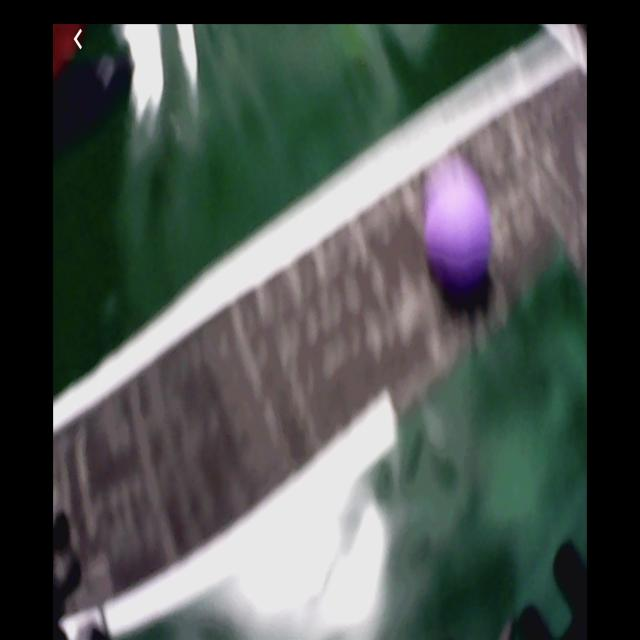ball: (424, 179, 493, 290)
